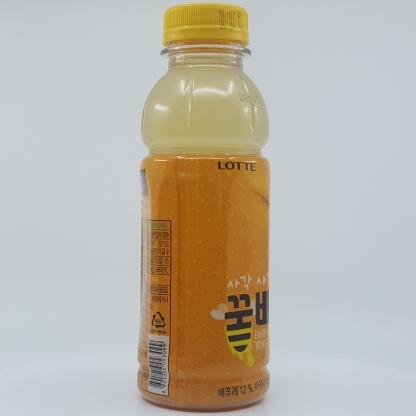--------380ML: (137, 2, 271, 413)
